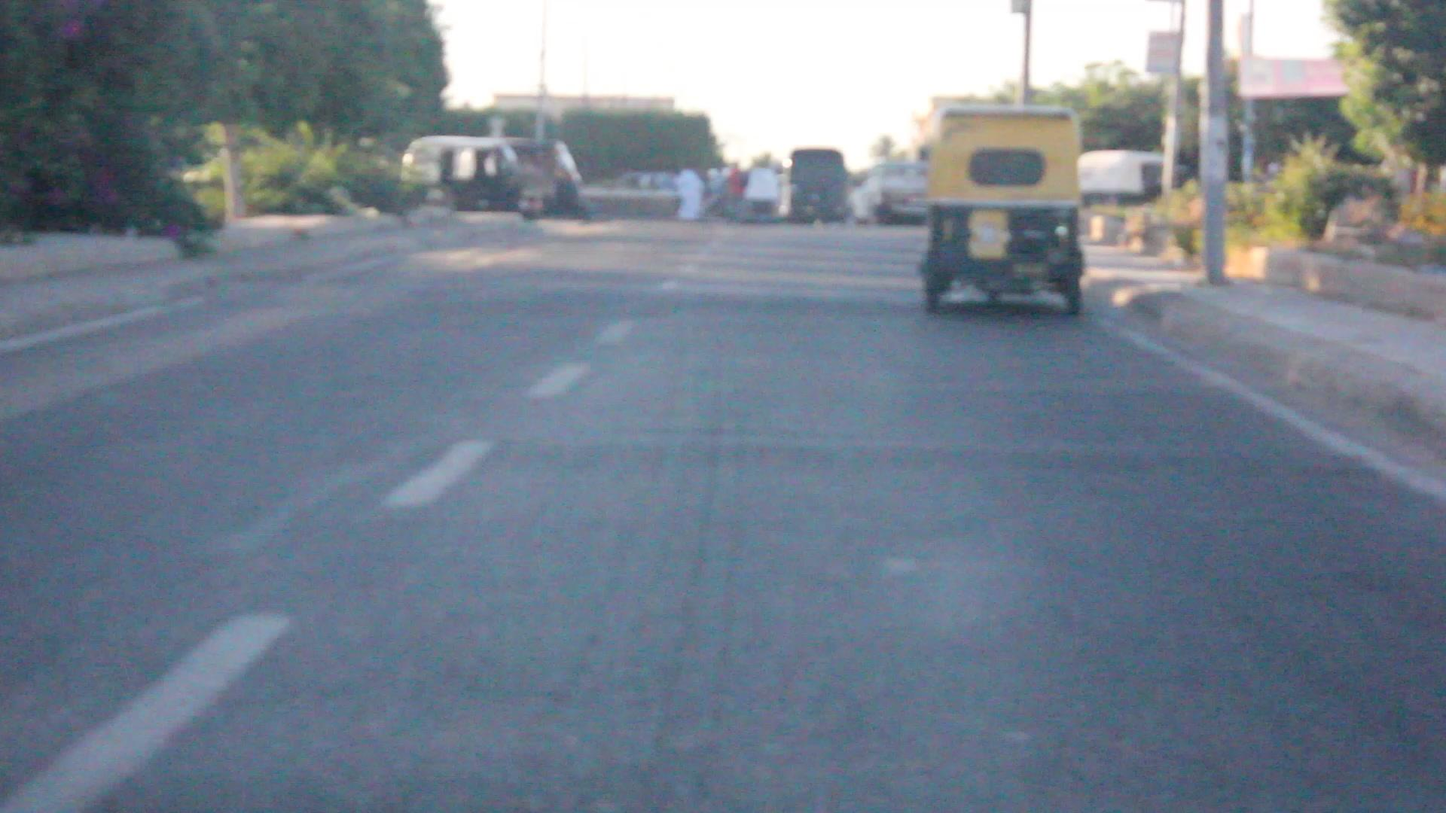Bump: (388, 275, 924, 318)
